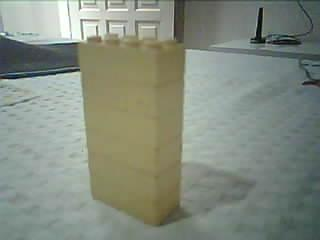lego: (76, 33, 185, 226)
